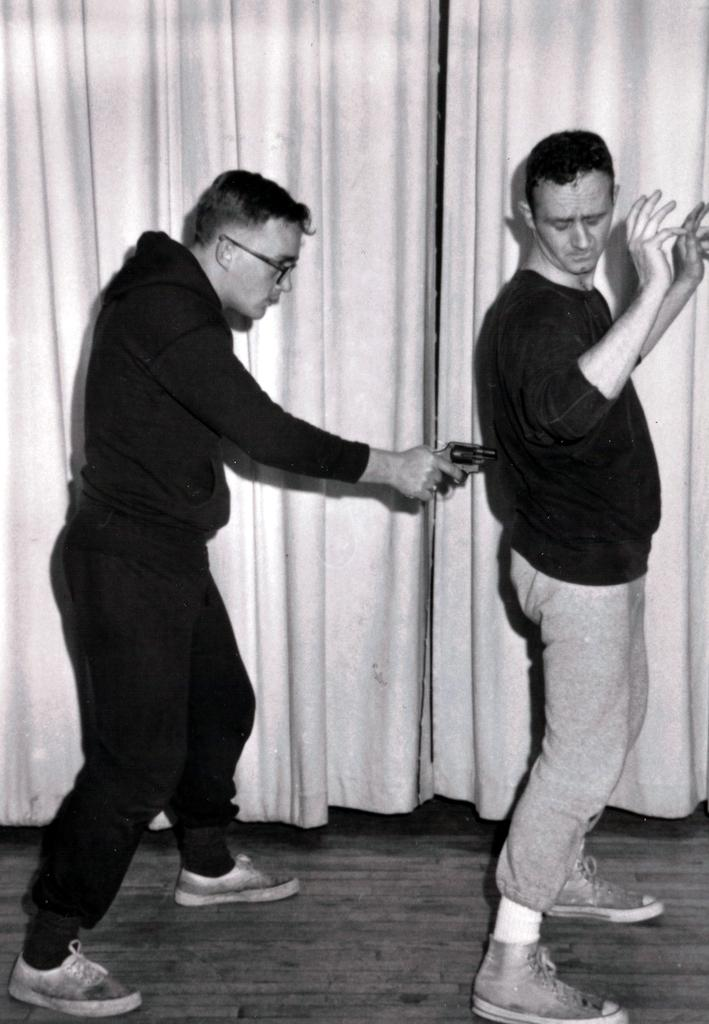non-violence: (1, 180, 463, 1024), (466, 133, 709, 1024)
weapon: (422, 441, 495, 485)
